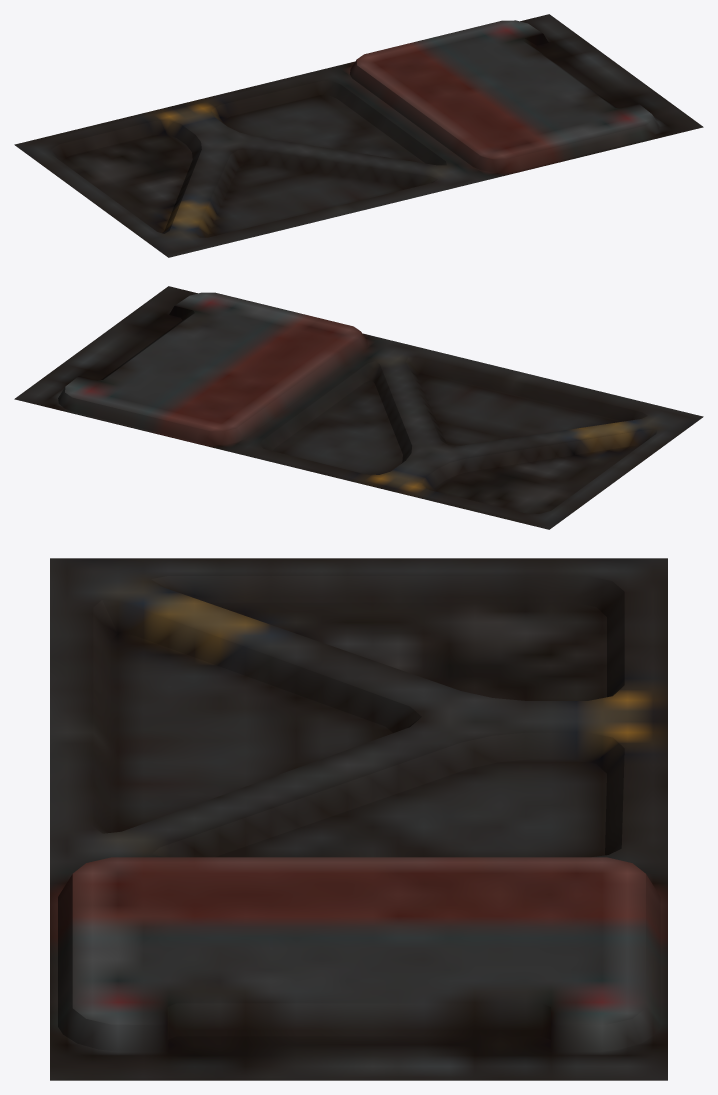
Rendered from Panel_04.FBX.
The picture shows the model from 3 angles, top to bottom: view 1: azimuth 30°, elevation 25°; view 2: azimuth 150°, elevation 25°; view 3: azimuth 270°, elevation 25°; orthographic projection. The views are drawn at different scales.
Parts seen in each view (by area): view 1: Panel_04; view 2: Panel_04; view 3: Panel_04.
Boxes of the visible parts, <box> form: Panel_04: <box>14,14,703,257</box>; Panel_04: <box>14,286,703,529</box>; Panel_04: <box>50,558,667,1080</box>.
Bounding box in the file's own units: 200 × 7.14 × 100.
